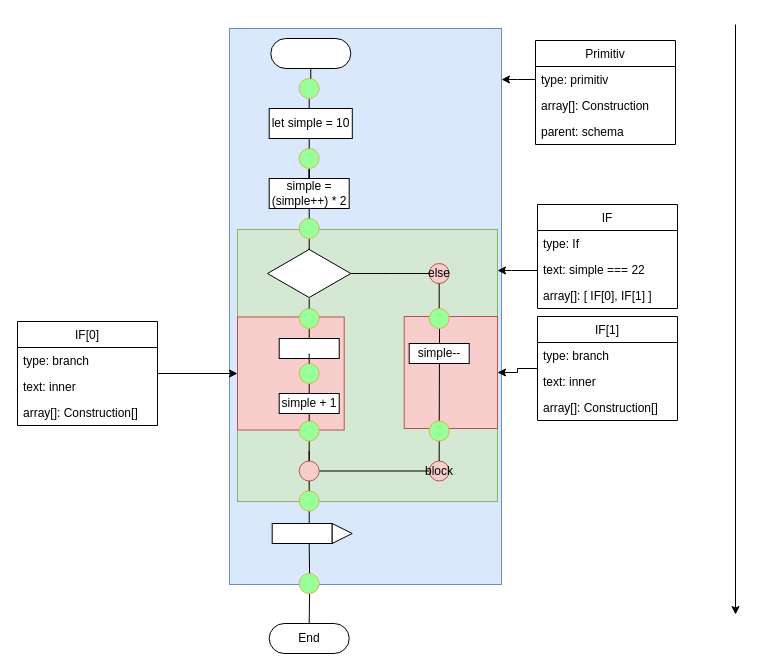
Some shapes in this 761 by 671 pixel diagram are drawn without their labels. The centre of each missing label's shape, as x and y in pixels:
"endif" belongs at [308,470].
"simple" belongs at [301,533].
"simple ===22" belongs at [308,273].
"simple++" belongs at [308,348].
"Start" belongs at [310,53].
